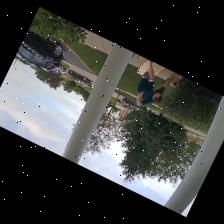person: (137, 60, 175, 105)
